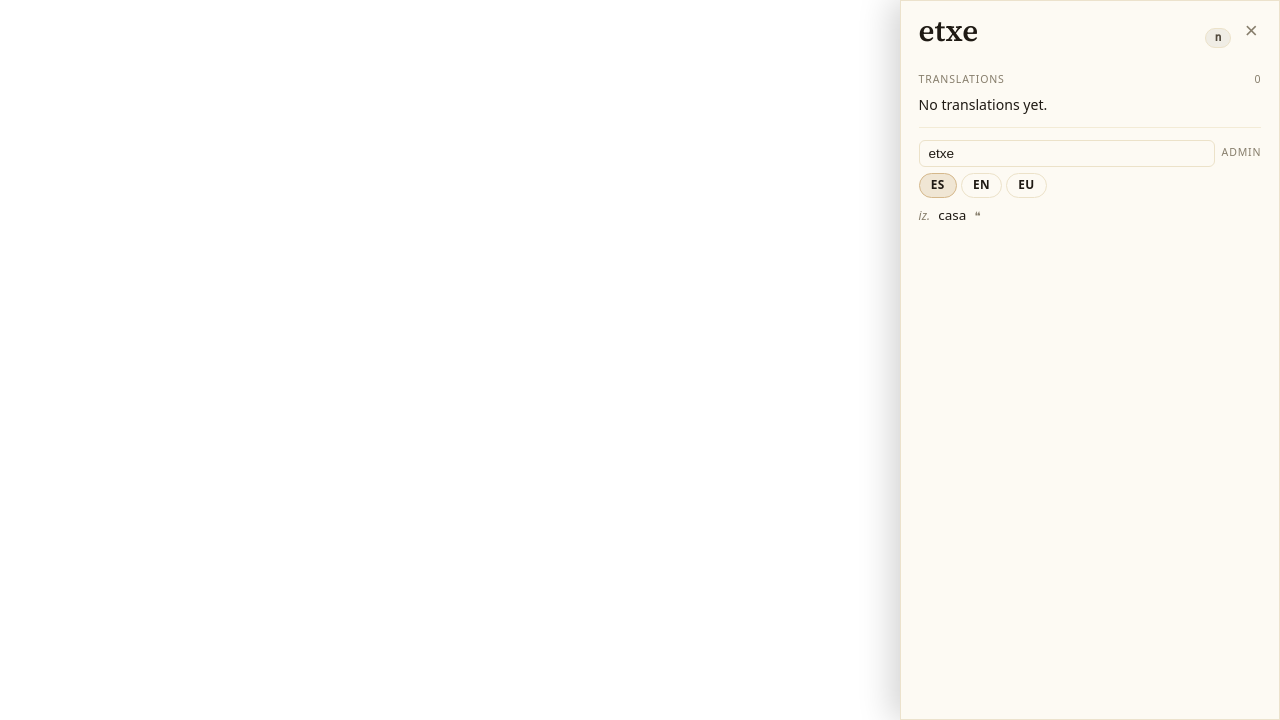
WordPopup — admin Basque reference panel › switches the upstream source when another tab is selected
Expected: the element with test id "admin-ref" shows "casa", [938, 206, 966, 224]
Click the tab with test id "ref-tab-en". click: (981, 185)
box: [961, 173, 1002, 198]
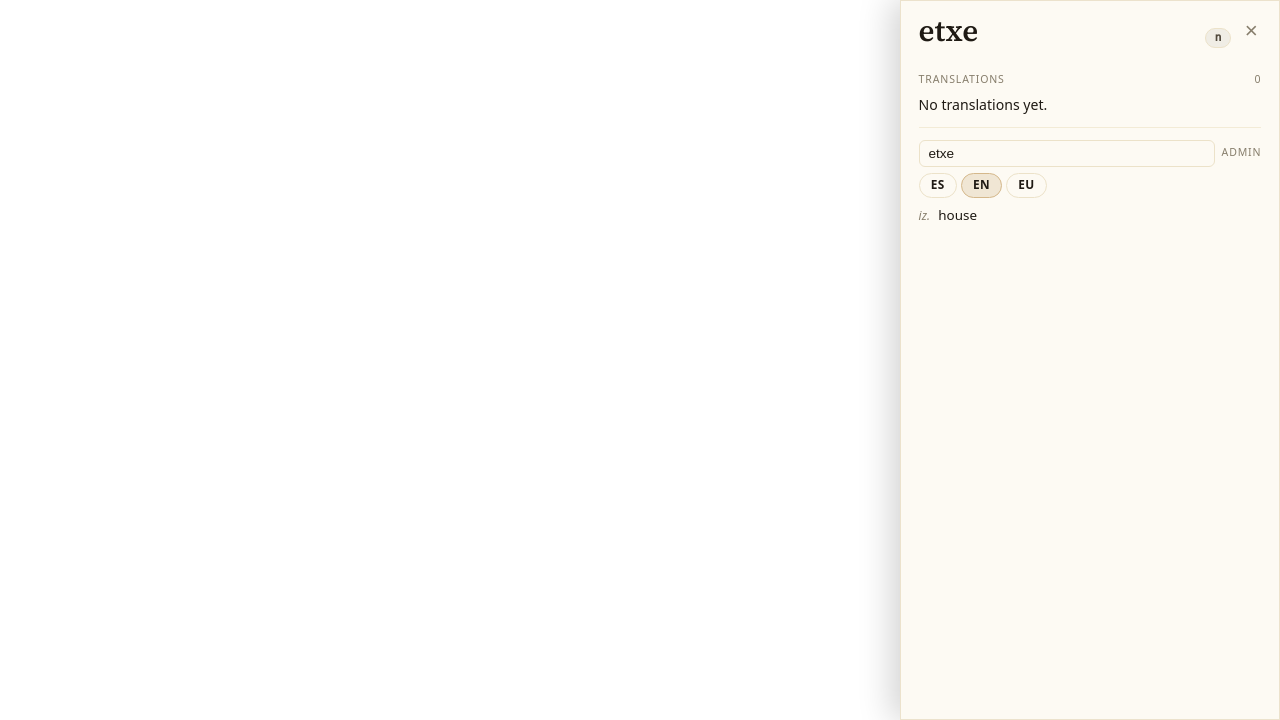
Now the element with test id "admin-ref" shows "house", box [938, 206, 977, 224]
Now the text with test id "admin-ref" no longer shows "casa"
